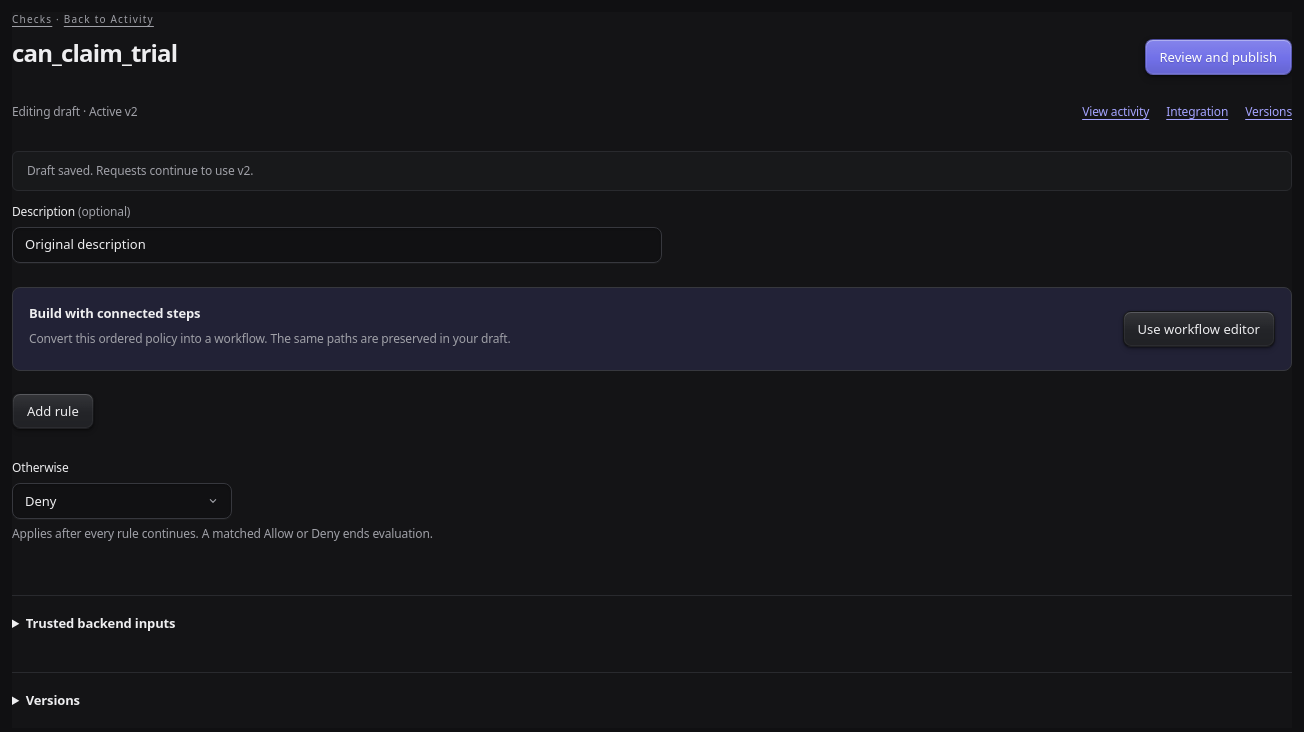
Scenario: check workflows › retries a lost publication response using the same intent and publishes only once
Click the button "Review and publish".
click(1218, 57)  # box [1144,39,1292,75]
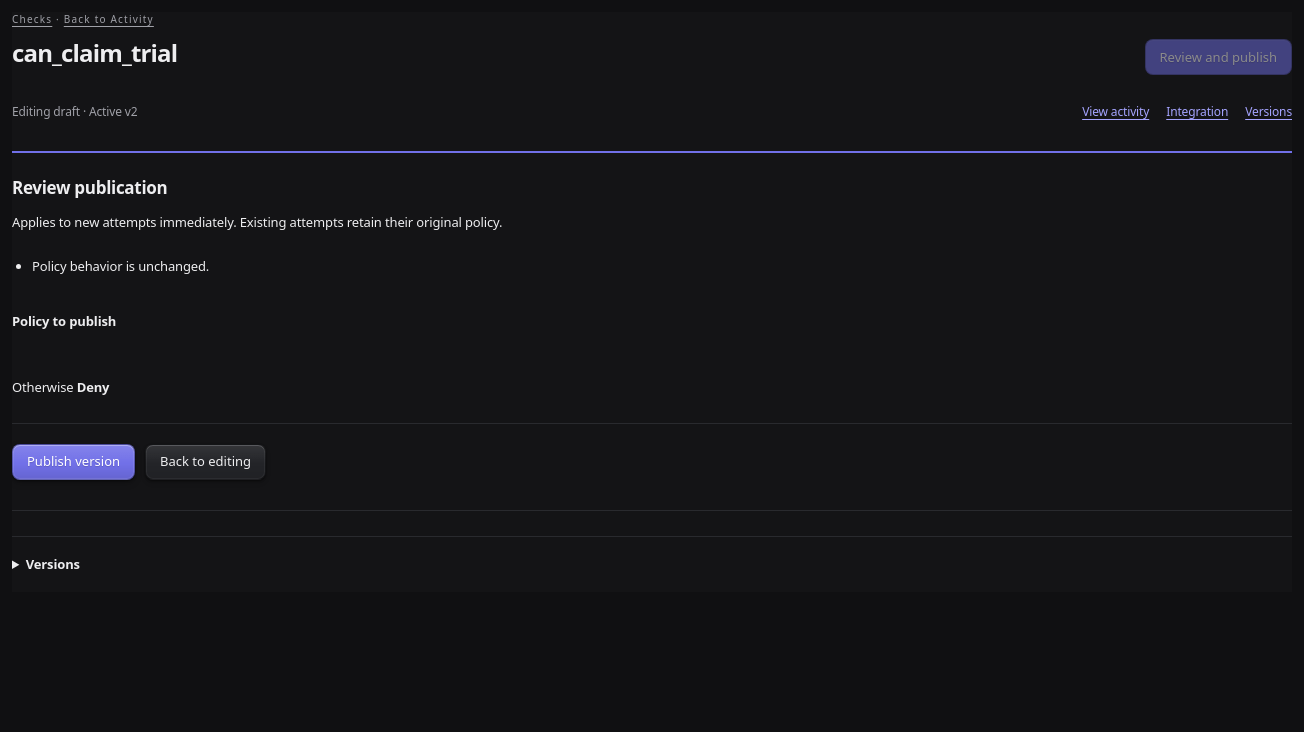
Click the button "Publish version".
click(74, 462)  # box [12,444,135,480]
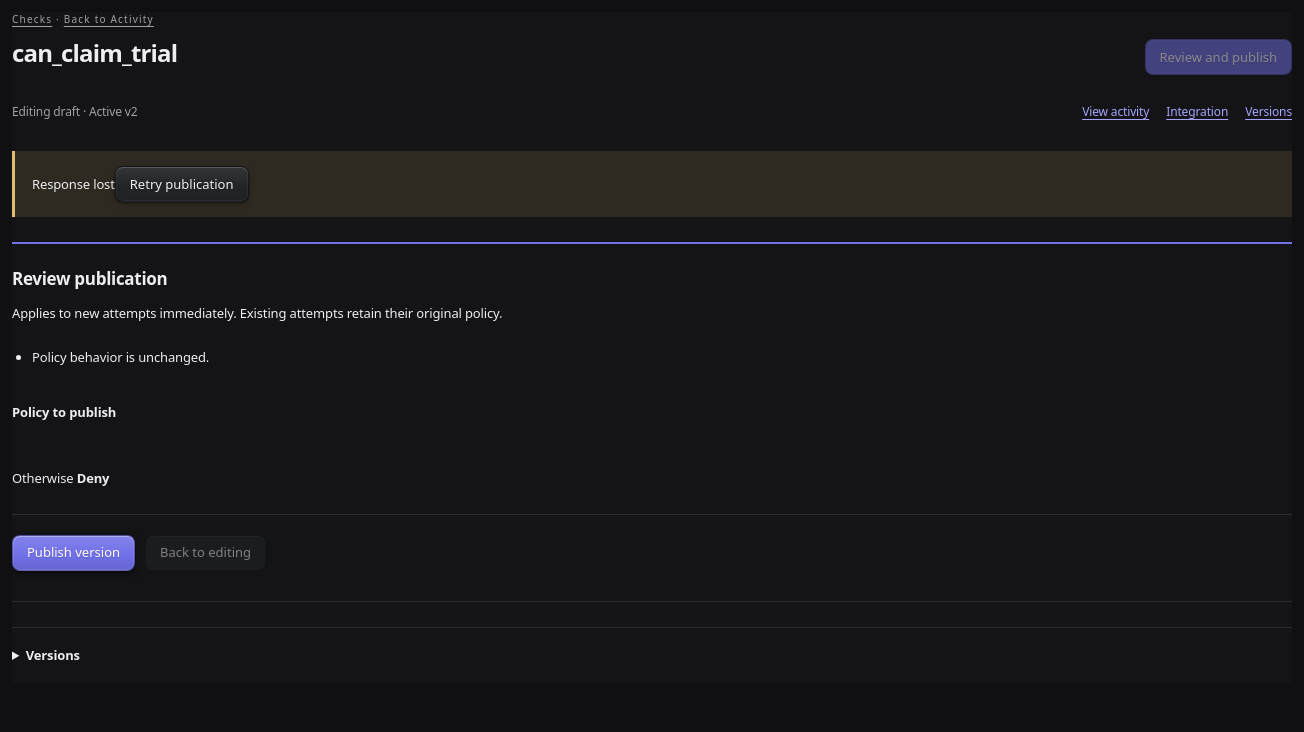
Expected: the text "Response lost" is shown, [32,174,115,192]
Expected: the button "Back to editing" is disabled, [145,534,266,570]
Click the button "Publish version".
click(74, 552)  # box [12,534,135,570]
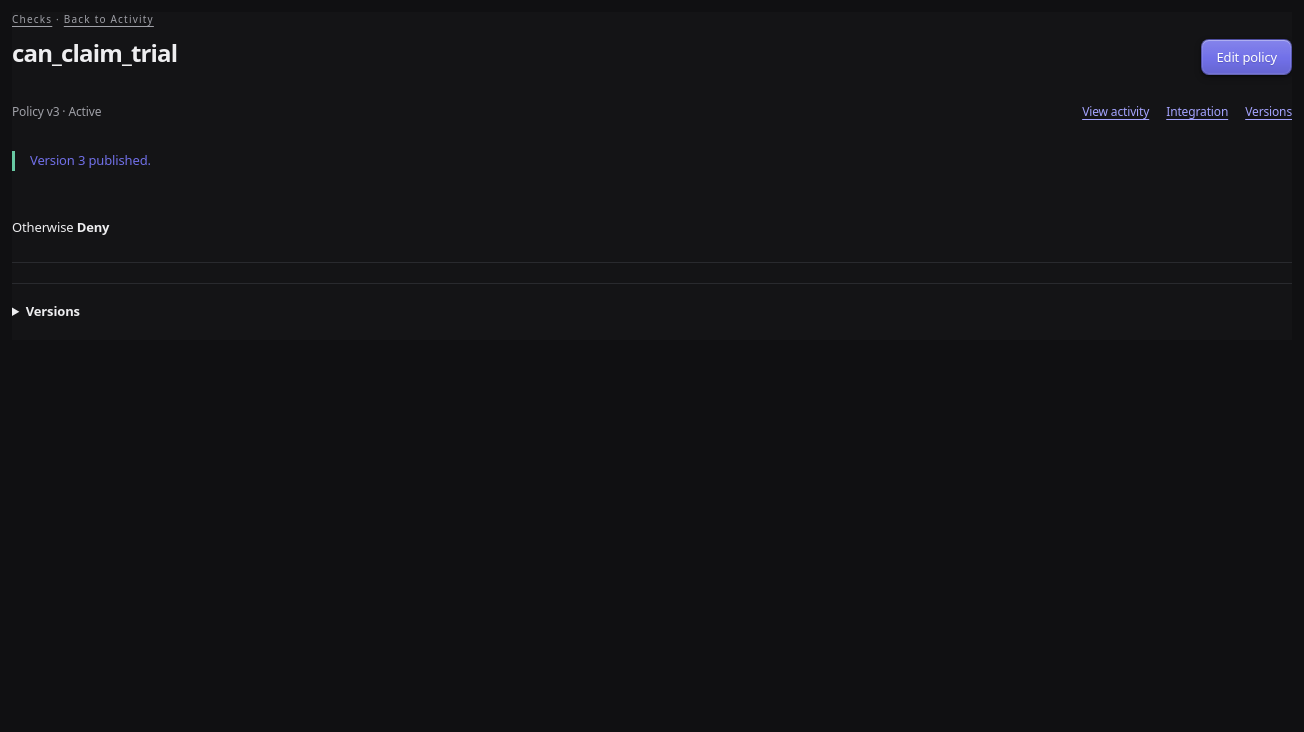
Expected: the text "Version 3 published." is shown, [12,151,1292,170]
